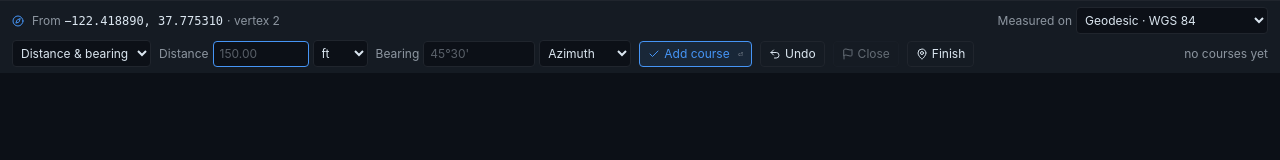
Test case: TraverseBar › swaps to curve elements when the course changes
Select "Tangent curve" in the dropdown titled "What kind of course": coordinates (82, 54) x1=12 y1=40 x2=151 y2=67
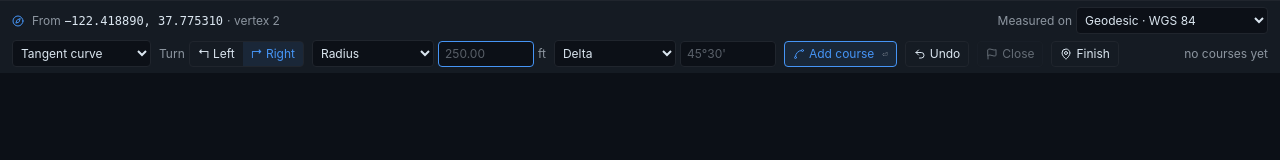
Now the text "Turn" is shown, box x1=159 y1=46 x2=185 y2=60
Now the text "Distance" is gone
